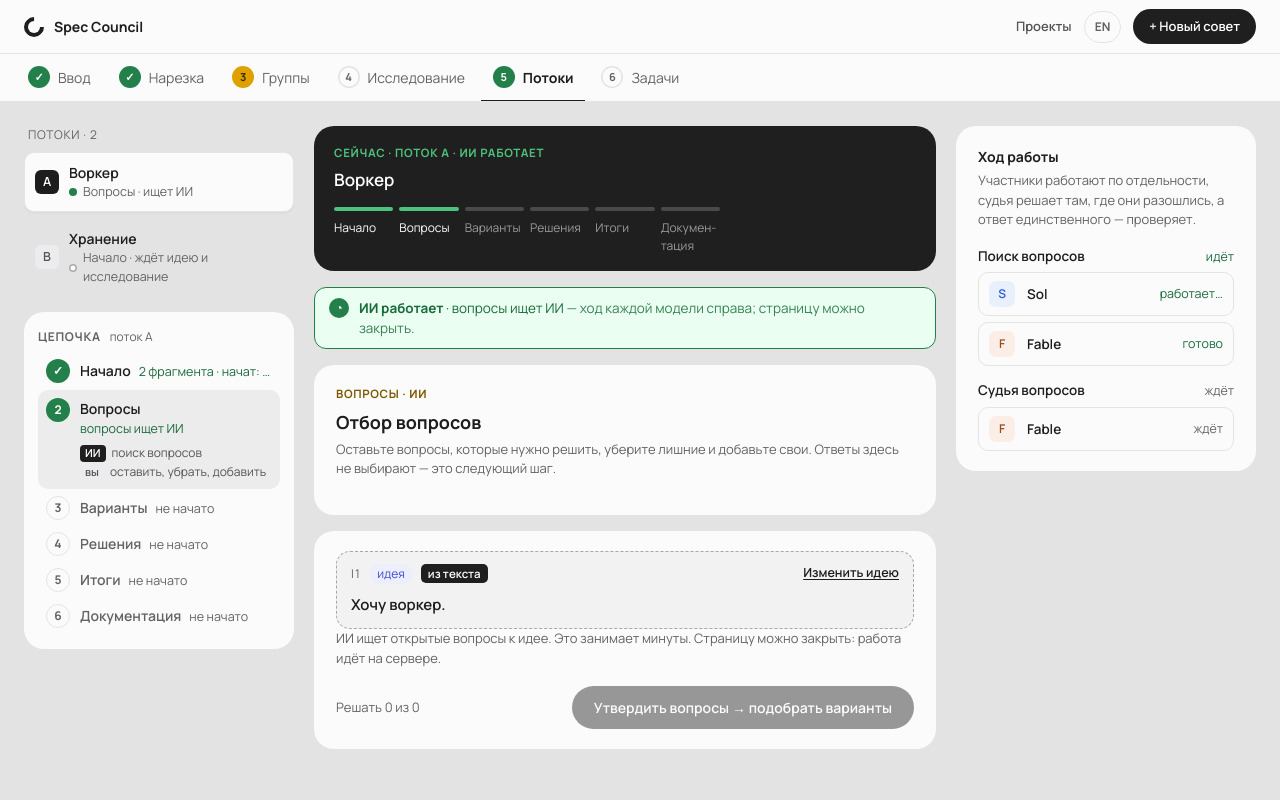
Test: Поток: начало и вопросы › пока ИИ ищет вопросы, поток не начать заново
Click the button "Изменить идею": (851, 574) [803,564,899,583]
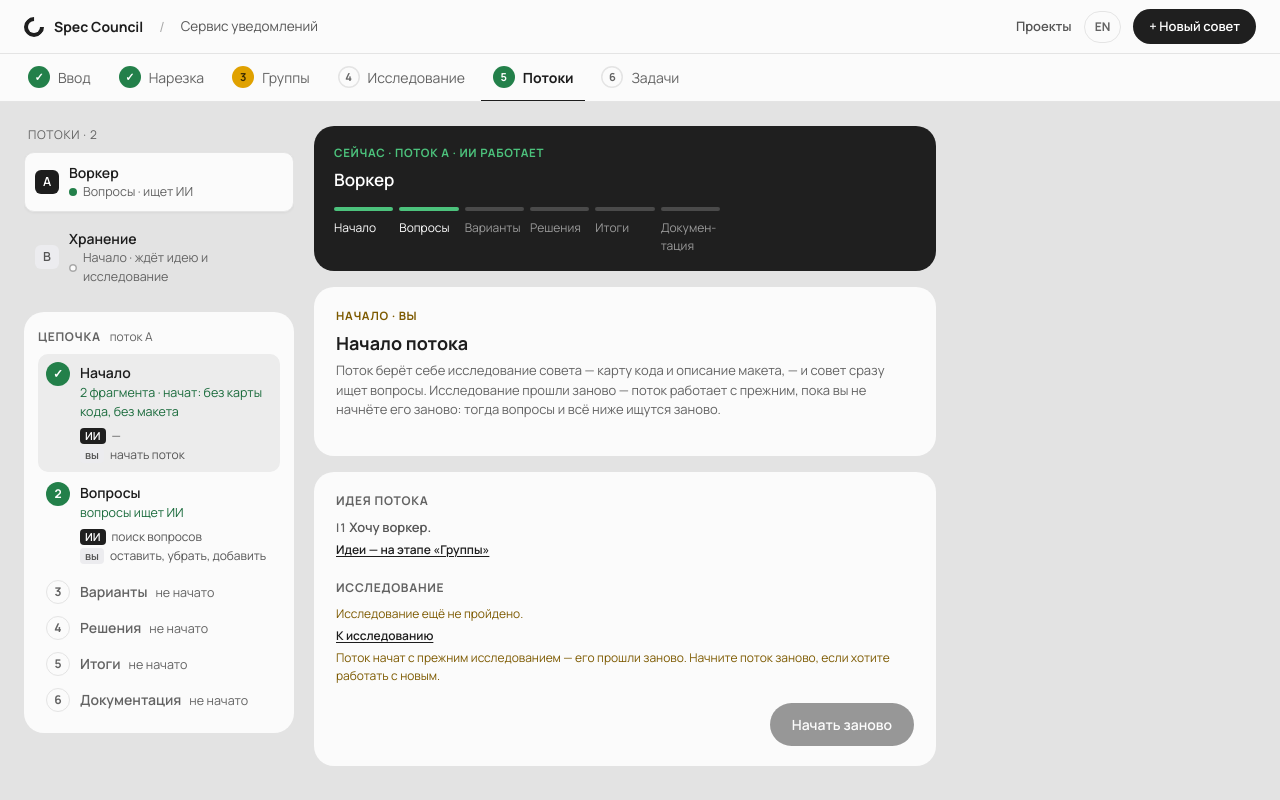
Expected: the button "Начать заново" is disabled, [770,703,914,746]
Expected: the heading "Начало потока" is shown, [336,331,468,355]
